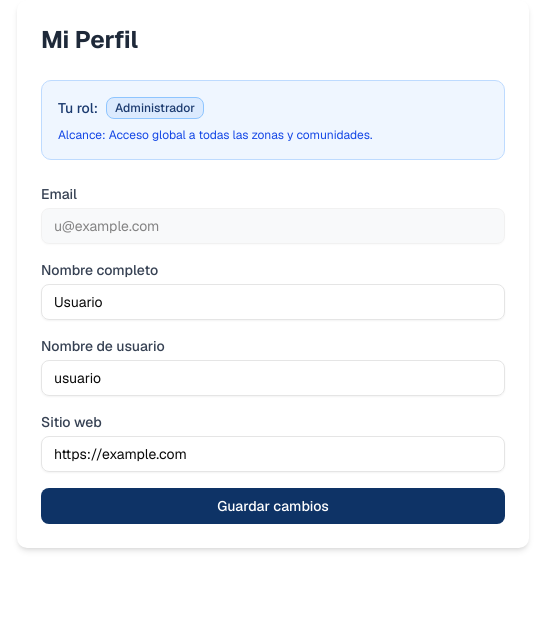
Scenario: Perfil › actualiza datos del usuario, resultado=throw
Expected: the heading "Mi Perfil" is shown, top-left (41, 24), bottom-right (138, 55)
Replace the text in the field labelled "Nombre completo" with "Nuevo Nombre": (273, 302) top-left (41, 284), bottom-right (505, 320)
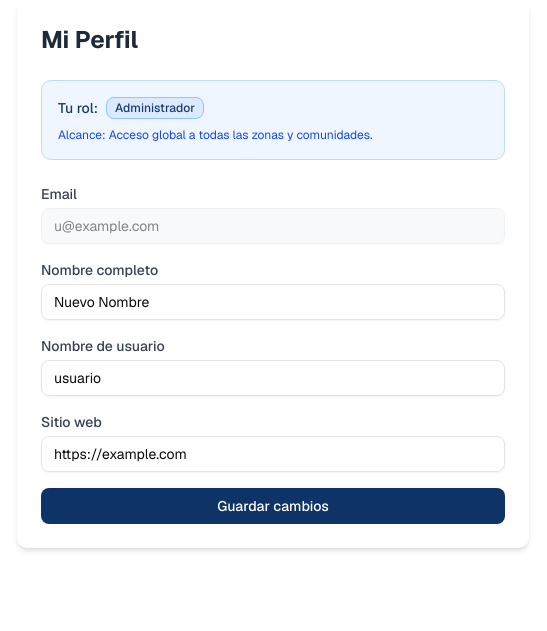
Replace the text in the field labelled "Nombre de usuario" with "nuevo": (273, 378) top-left (41, 360), bottom-right (505, 396)
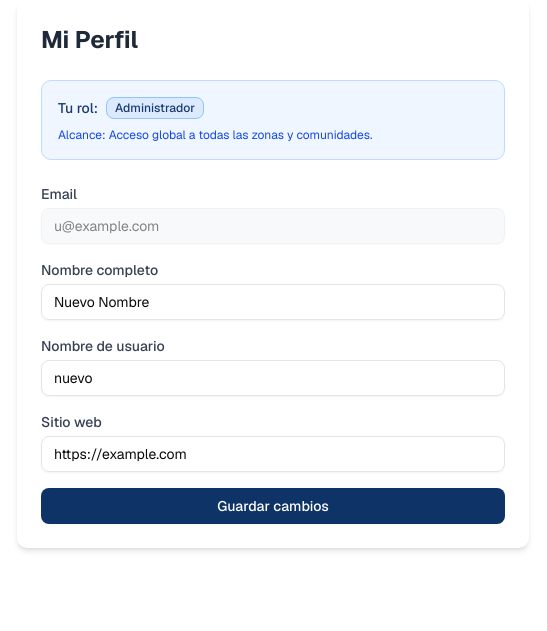
Replace the text in the field labelled "Sitio web" with "https://nuevo.example.com": (273, 454) top-left (41, 436), bottom-right (505, 472)
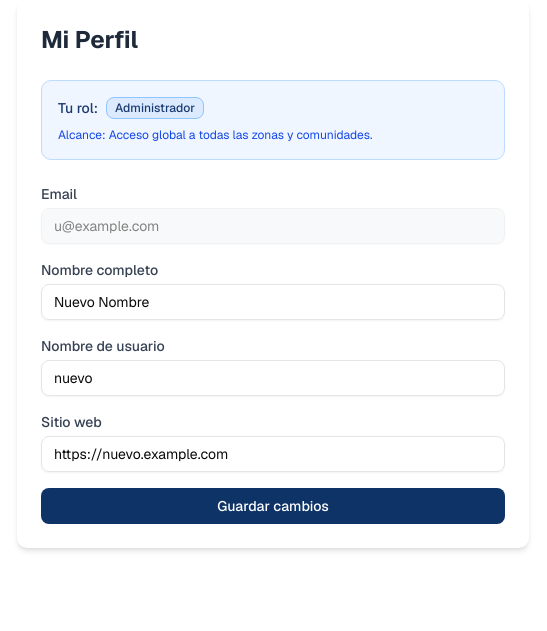
Click the button "Guardar cambios": (273, 506) top-left (41, 488), bottom-right (505, 524)
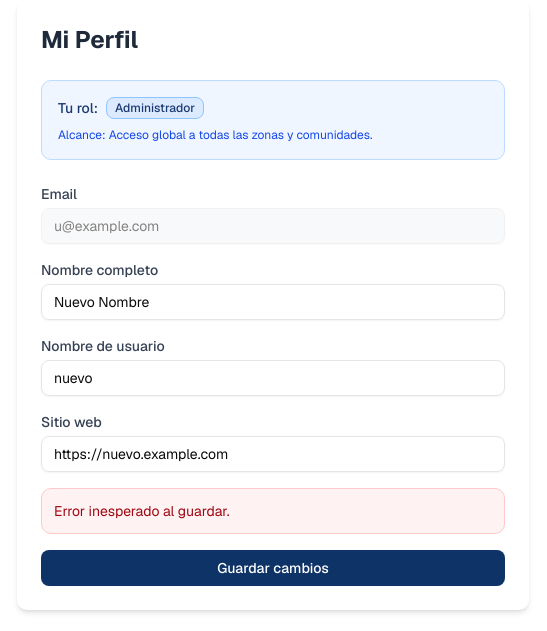
Expected: the text "Error inesperado al guardar." is shown, top-left (41, 488), bottom-right (505, 534)
